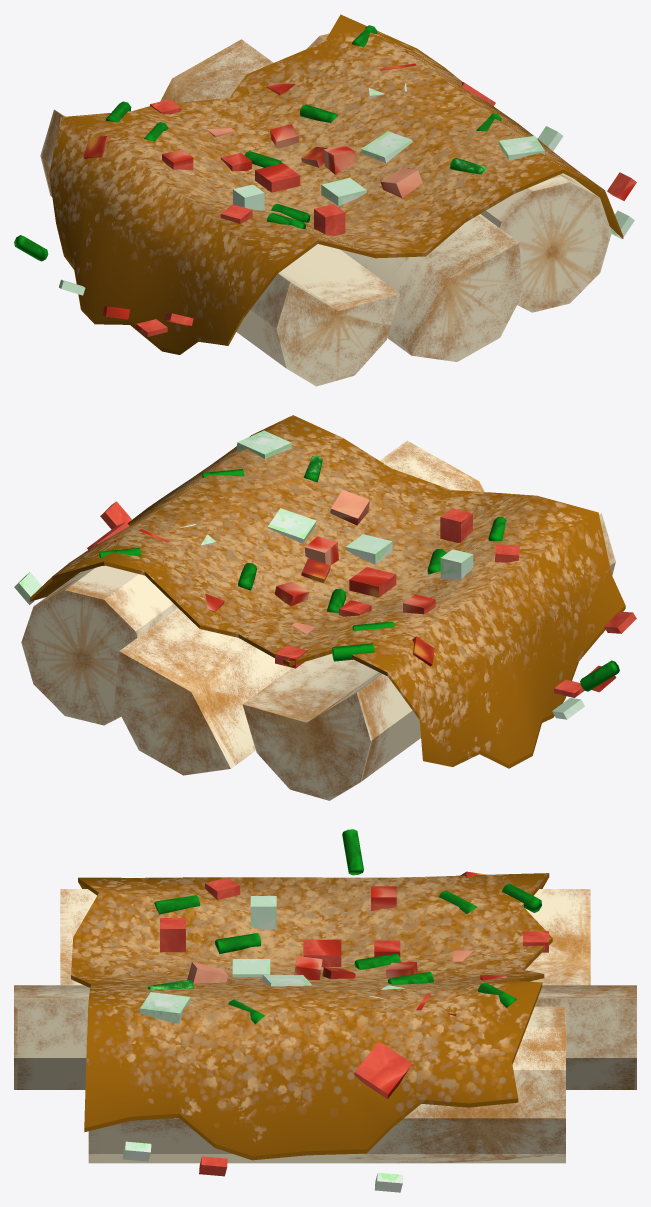
The model's file is yucaa.glb.
3 views of the same model, one above another, from view 1: azimuth 30°, elevation 25°; view 2: azimuth 150°, elevation 25°; view 3: azimuth 270°, elevation 25° (orthographic). The views are drawn at different scales.
Visible parts, largest first — view 1: Plato2; view 2: Plato2; view 3: Plato2.
Boxes of the visible parts, x1,y1,x2,y2 form: Plato2: (14, 14, 636, 386); Plato2: (14, 415, 636, 800); Plato2: (14, 829, 636, 1192).
Size of the model in its own units: 2.14 by 0.6187 by 1.84.
5 materials, 5 textured.
